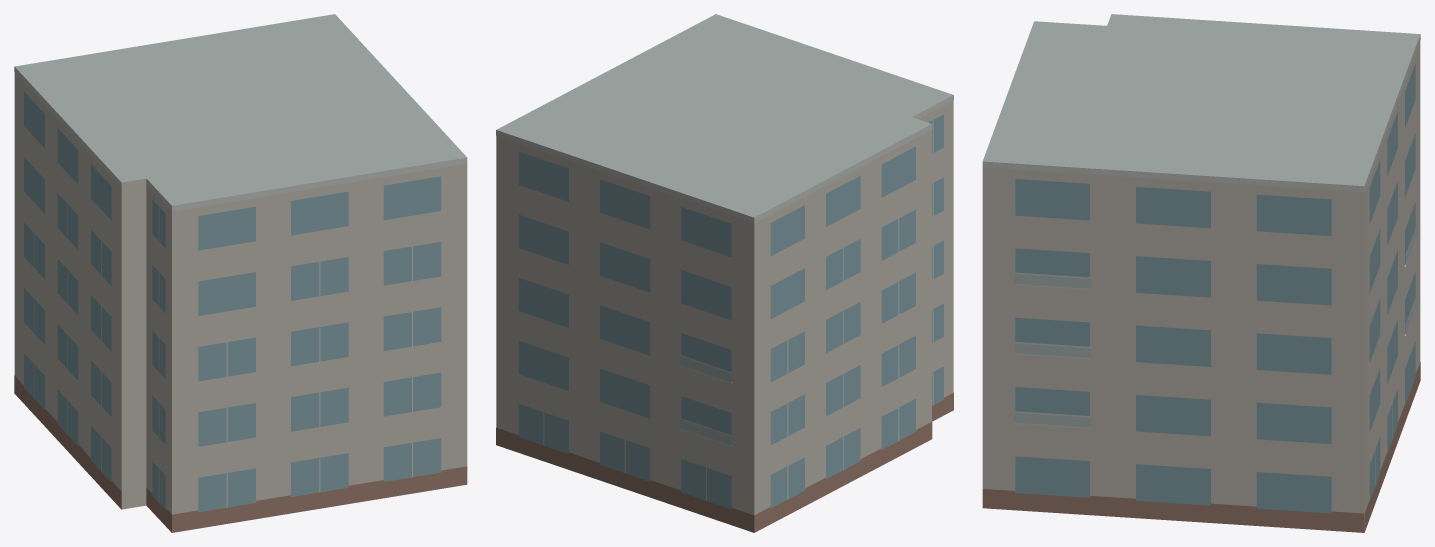
File: survey-upis-32668512.glb
3 views of the same model, side by side, from view 1: azimuth 30°, elevation 25°; view 2: azimuth 150°, elevation 25°; view 3: azimuth 270°, elevation 25° (orthographic). The views are drawn at different scales.
Parts seen in each view (by area): view 1: survey-upis-32668512.tmp; view 2: survey-upis-32668512.tmp; view 3: survey-upis-32668512.tmp.
Boxes of the visible parts, x1,y1,x2,y2 form: survey-upis-32668512.tmp: [14, 14, 467, 532]; survey-upis-32668512.tmp: [496, 14, 953, 532]; survey-upis-32668512.tmp: [982, 14, 1420, 532].
Size of the model in its own units: 14.44 by 13.55 by 15.52.
